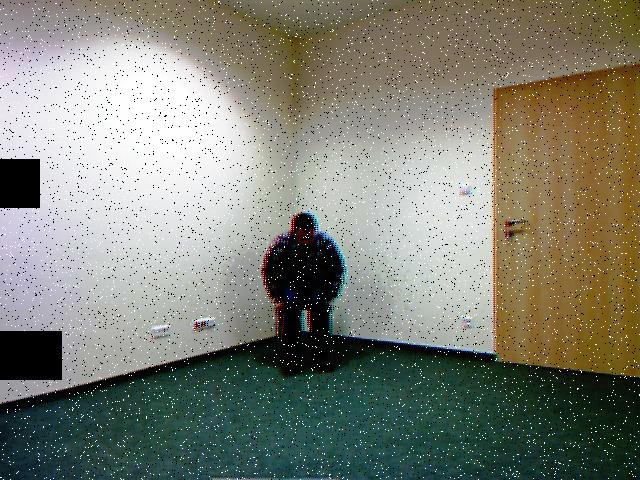bending: (254, 194, 360, 387)
